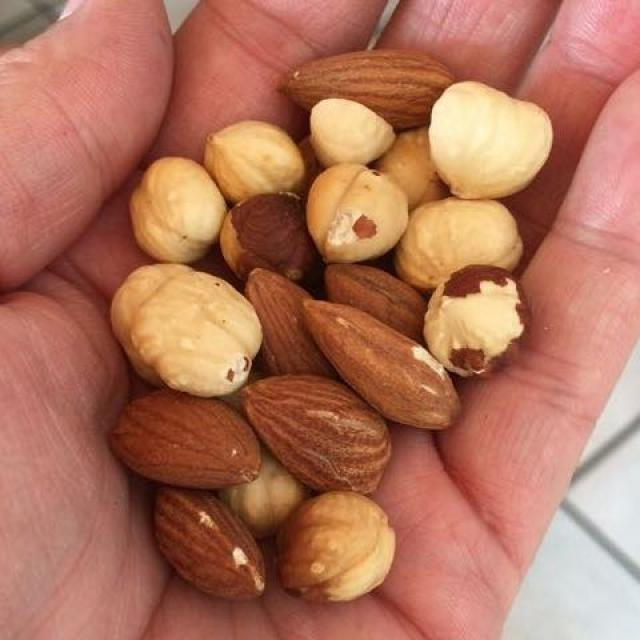mixed-nuts: (117, 58, 526, 591)
